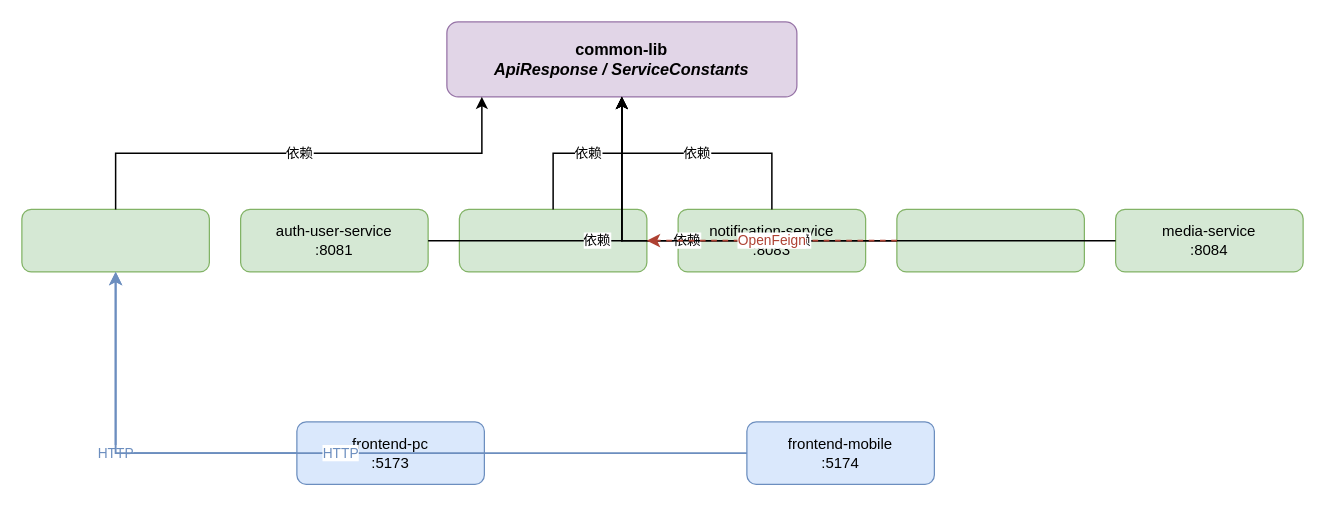
Image size: 1325x506. Some labels were removed from this diagram. The shapes that lost their labels are listed below. From the top down, each one's centre as x and y in pixels, then its label:
At point 115,240: "gateway-service :8080".
At point 552,240: "forum-service :8082".
At point 990,240: "search-service :8085".
